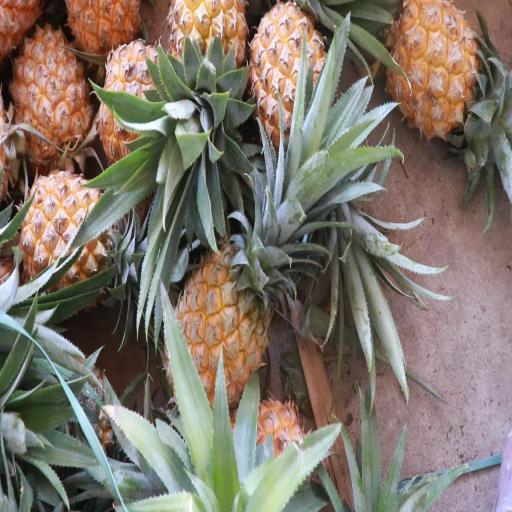Pineapple - v8 v1: (160, 225, 295, 419), (14, 165, 128, 323), (247, 2, 341, 172), (97, 34, 195, 196), (383, 0, 484, 152), (160, 0, 253, 152), (8, 19, 94, 175)
